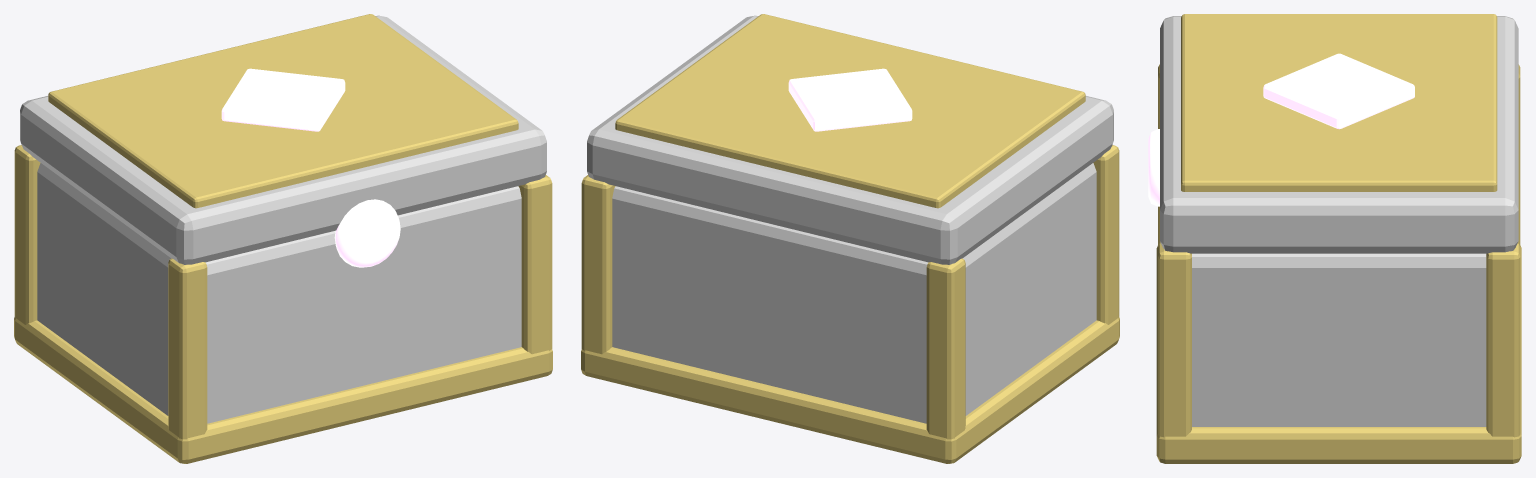
Rendered from SM_Box_RunicArcane.fbx.
3 renders of one model, left to right at view 1: azimuth 30°, elevation 25°; view 2: azimuth 150°, elevation 25°; view 3: azimuth 270°, elevation 25°, orthographic. The views are drawn at different scales.
Visible parts, largest first — view 1: LidPivot, Body, BaseRim, Corner_1_-1, Corner_1_1, Corner_-1_-1, SealPart; view 2: LidPivot, Body, BaseRim, Corner_-1_-1, Corner_-1_1, Corner_1_-1; view 3: LidPivot, Body, BaseRim, Corner_-1_1, Corner_1_1, SealPart, Corner_-1_-1.
Part boxes in pixels (bbox=[...]): LidPivot: bbox=[20, 14, 546, 264]; Body: bbox=[37, 163, 521, 423]; BaseRim: bbox=[14, 317, 552, 463]; Corner_1_-1: bbox=[168, 258, 207, 439]; Corner_1_1: bbox=[518, 175, 552, 354]; Corner_-1_-1: bbox=[14, 145, 40, 324]; SealPart: bbox=[334, 199, 400, 267]; LidPivot: bbox=[587, 14, 1113, 264]; Body: bbox=[612, 163, 1096, 423]; BaseRim: bbox=[581, 317, 1119, 463]; Corner_-1_-1: bbox=[926, 258, 965, 439]; Corner_-1_1: bbox=[581, 175, 615, 354]; Corner_1_-1: bbox=[1093, 145, 1119, 324]; LidPivot: bbox=[1160, 14, 1518, 253]; Body: bbox=[1192, 253, 1486, 426]; BaseRim: bbox=[1156, 245, 1521, 463]; Corner_-1_1: bbox=[1486, 243, 1520, 437]; Corner_1_1: bbox=[1158, 243, 1191, 437]; SealPart: bbox=[1148, 129, 1159, 206]; Corner_-1_-1: bbox=[1518, 64, 1520, 246].
Size of the model in its own units: 0.38 by 0.259 by 0.307.
